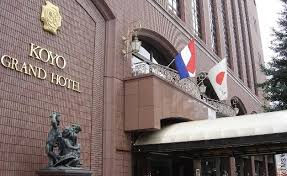Japanese Flag: (205, 54, 236, 102)
